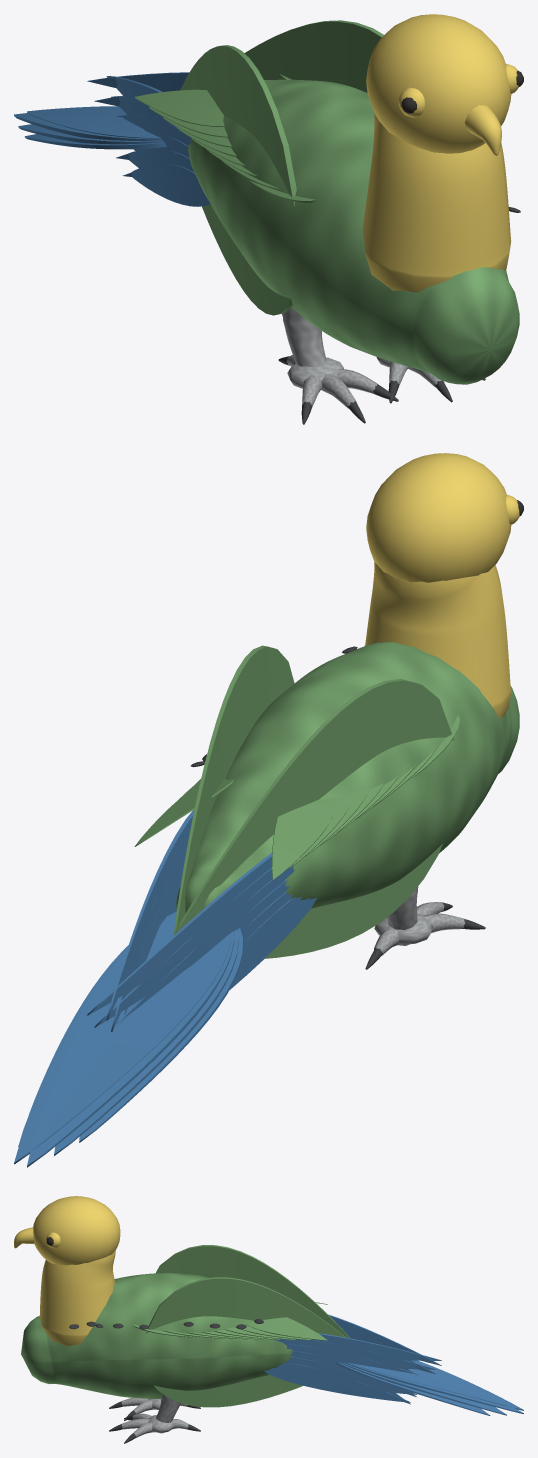
File: birds-and-reptiles-hd-budgerigar-6c615f2a__28089.glb
The picture shows the model from 3 angles, top to bottom: view 1: azimuth 30°, elevation 25°; view 2: azimuth 150°, elevation 25°; view 3: azimuth 270°, elevation 25°; orthographic projection. The views are drawn at different scales.
Parts seen in each view (by area): view 1: budgerigar; view 2: budgerigar; view 3: budgerigar.
Boxes of the visible parts, left/top/right/bottom form: budgerigar: left=14, top=14, right=523, bottom=424; budgerigar: left=14, top=453, right=523, bottom=1167; budgerigar: left=14, top=1196, right=523, bottom=1443.
Size of the model in its own units: 0.0719 by 0.1556 by 0.325.
Materials: 6 (4 with a texture image).
